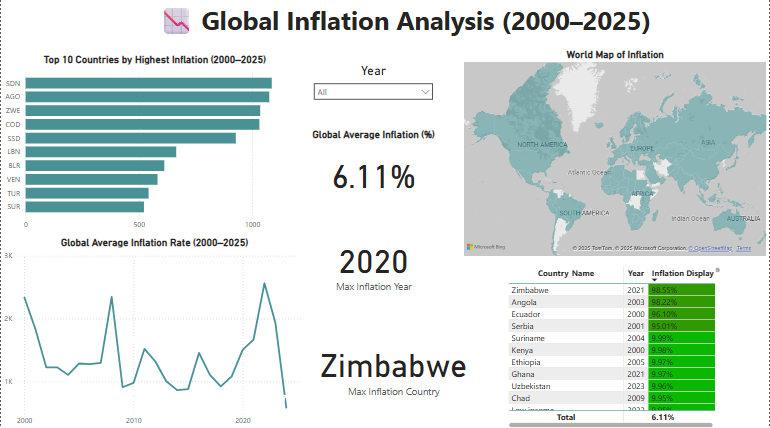

Layout of this report page (visuals, bound fields, positions):
{"tool":"powerbi","page":{"name":"Global_Inflation","canvas":[1280,720],"ordinal":0},"visuals":[{"type":"lineChart","title":"Global Average Inflation Rate (2000–2025)","fields":{"Category":["GlobalInflation.Year"],"Y":["Sum(GlobalInflation.Inflation)"]},"box":[0,395,511.7,325],"z":0},{"type":"barChart","title":"Top 10 Countries by Highest Inflation (2000–2025)","fields":{"Category":["GlobalInflation.Country_Code"],"Y":["Sum(GlobalInflation.Inflation)"]},"box":[0,90.7,512.3,304],"z":1000},{"type":"slicer","title":"Year","fields":{"Values":["GlobalInflation.Year"]},"box":[511.7,106.7,218.3,95],"z":2000},{"type":"filledMap","title":"World Map of Inflation","fields":{"Category":["GlobalInflation.Country_Name"]},"box":[766,82.3,514,351.1],"z":3000},{"type":"textbox","box":[233.5,0,880.2,68.9],"z":4000},{"type":"tableEx","fields":{"Values":["GlobalInflation.Country_Name","GlobalInflation.Year","GlobalInflation.Inflation Display"]},"box":[840,442,364,278],"z":5000},{"type":"card","title":"Global Average Inflation (%)","fields":{"Values":["GlobalInflation.Inflation Display"]},"box":[511.7,201.7,255,130],"z":6000},{"type":"card","fields":{"Values":["GlobalInflation.Max Inflation Year"]},"box":[511.7,331.7,255,138.3],"z":7000},{"type":"card","fields":{"Values":["GlobalInflation.Max Inflation Country"]},"box":[511.7,476.7,285,210],"z":8000}]}

Visuals, with their boxes in screenshot pixels (x1, y1, x2, y2), scaled from the page's 1280x720 canvas onto the 770x428 screenshot:
"Global Average Inflation Rate (2000–2025)" lineChart: (0,235,308,427)
"Top 10 Countries by Highest Inflation (2000–2025)" barChart: (0,54,308,235)
"Year" slicer: (308,63,439,120)
"World Map of Inflation" filledMap: (461,49,769,258)
textbox: (140,0,670,41)
tableEx - GlobalInflation.Country_Name x GlobalInflation.Year: (505,263,724,427)
"Global Average Inflation (%)" card: (308,120,461,197)
card - GlobalInflation.Max Inflation Year: (308,197,461,279)
card - GlobalInflation.Max Inflation Country: (308,283,479,408)
